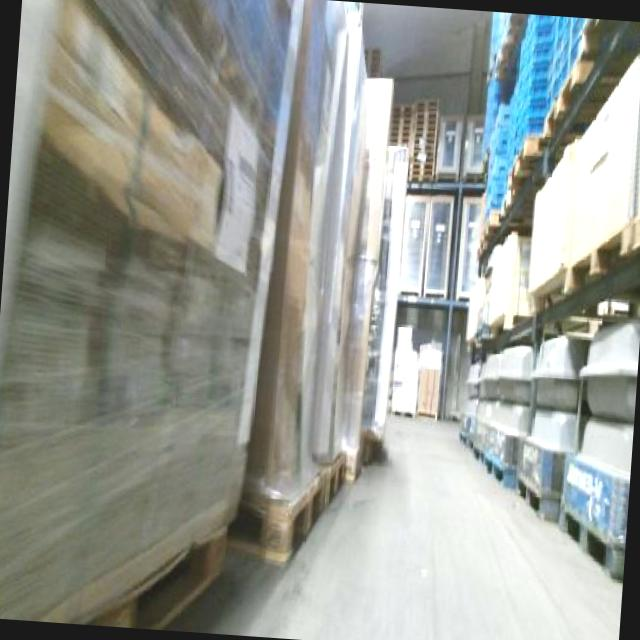pallet: (247, 434, 357, 550), (409, 96, 441, 187)
